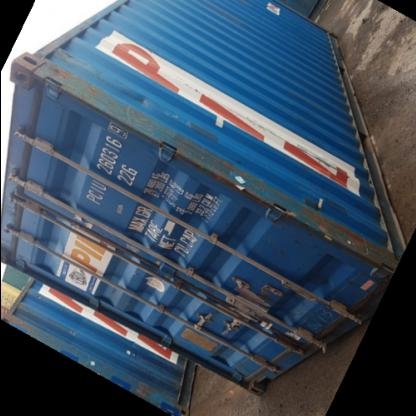Damage: (278, 194, 388, 262), (85, 96, 187, 154), (182, 148, 276, 204), (18, 61, 106, 110)
